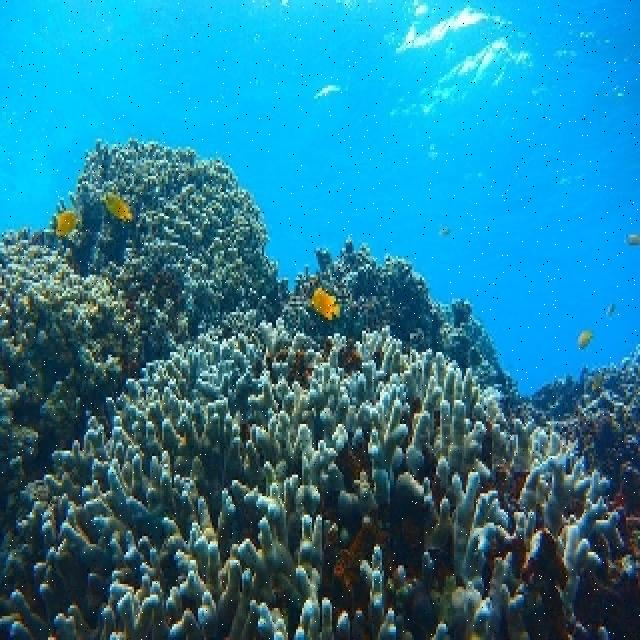fish: (310, 286, 342, 321), (100, 192, 135, 222), (56, 209, 83, 237)
reefs: (0, 317, 638, 637), (6, 137, 291, 362), (0, 234, 145, 526), (283, 235, 516, 389)
